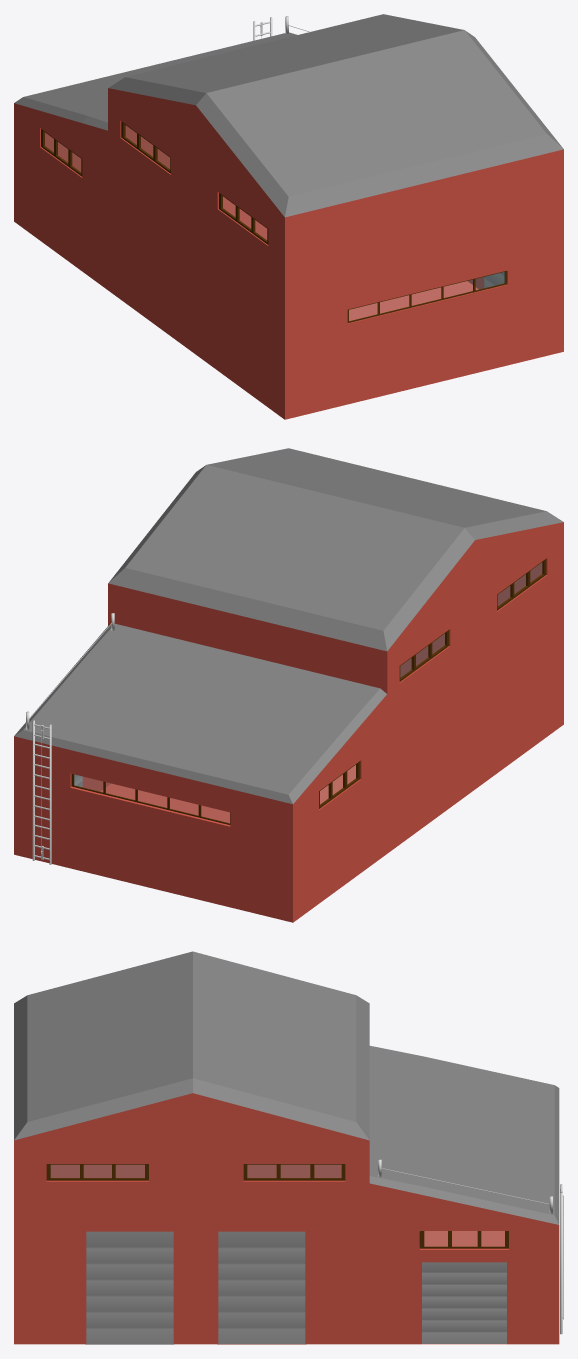
File: Casa.glb
The picture shows the model from 3 angles, top to bottom: view 1: azimuth 30°, elevation 25°; view 2: azimuth 150°, elevation 25°; view 3: azimuth 270°, elevation 25°; orthographic projection.
Visible parts, largest first — view 1: Fabrika; view 2: Fabrika, Merdiven; view 3: Fabrika, Kapı 1, Kapı 2, Kapı 3.
Part boxes in pixels (x1=…): Fabrika: x1=14, y1=14, x2=563, y2=419; Fabrika: x1=14, y1=448, x2=563, y2=922; Merdiven: x1=32, y1=720, x2=51, y2=864; Fabrika: x1=14, y1=951, x2=559, y2=1344; Kapı 1: x1=85, y1=1231, x2=173, y2=1344; Kapı 2: x1=217, y1=1231, x2=305, y2=1344; Kapı 3: x1=422, y1=1262, x2=506, y2=1343.
Bounding box in the file's own units: 1.76 × 1.56 × 2.98.
